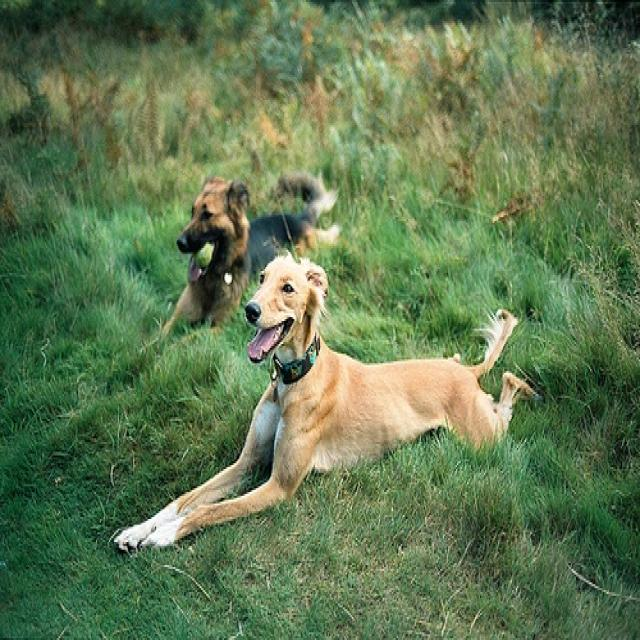dog: (117, 255, 532, 556), (150, 169, 335, 346)
